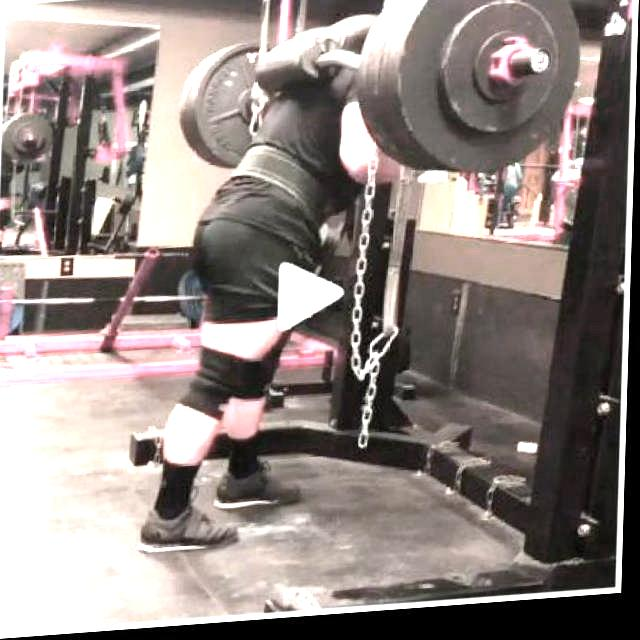barbell: (392, 1, 590, 192), (25, 131, 40, 145)
